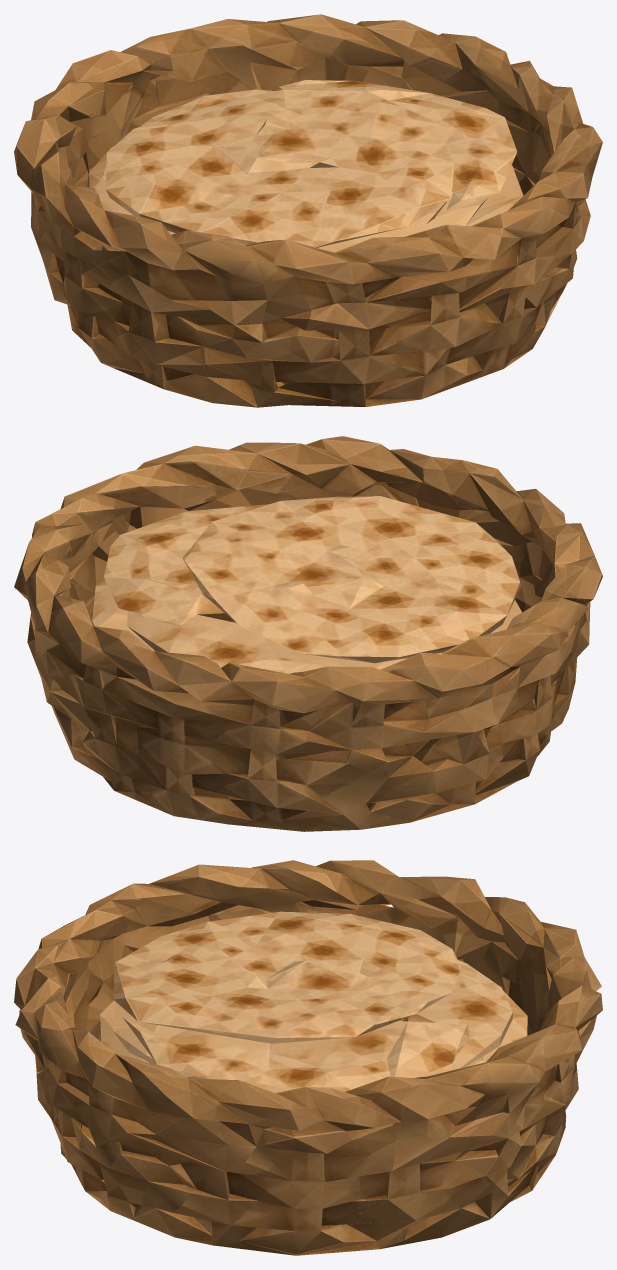
Rendered from unleavened-basket.glb.
3 views of the same model, one above another, from view 1: azimuth 30°, elevation 25°; view 2: azimuth 150°, elevation 25°; view 3: azimuth 270°, elevation 25° (orthographic).
Bounding box in the file's own units: 1.9 × 0.6631 × 1.9.
Materials: 1 (1 with a texture image).
